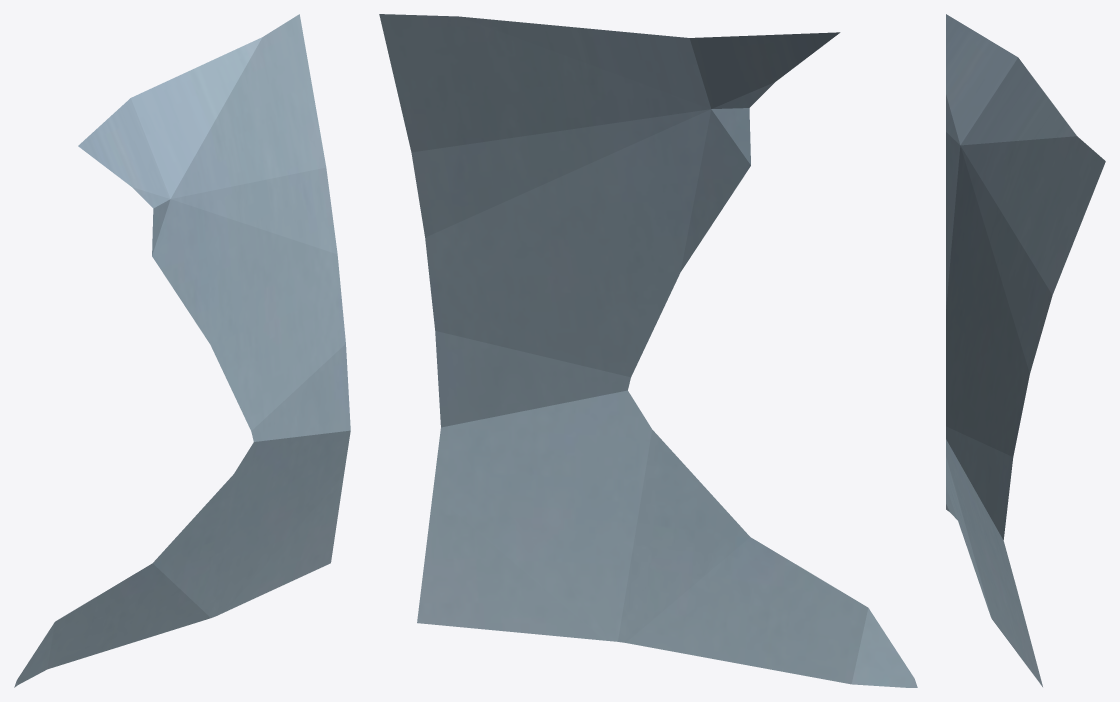
The picture shows the model from 3 angles, left to right: view 1: azimuth 30°, elevation 25°; view 2: azimuth 150°, elevation 25°; view 3: azimuth 270°, elevation 25°; orthographic projection. The views are drawn at different scales.
Size of the model in its own units: 0.6082 by 0.8373 by 0.2303.
Materials: 1 (1 with a texture image).
